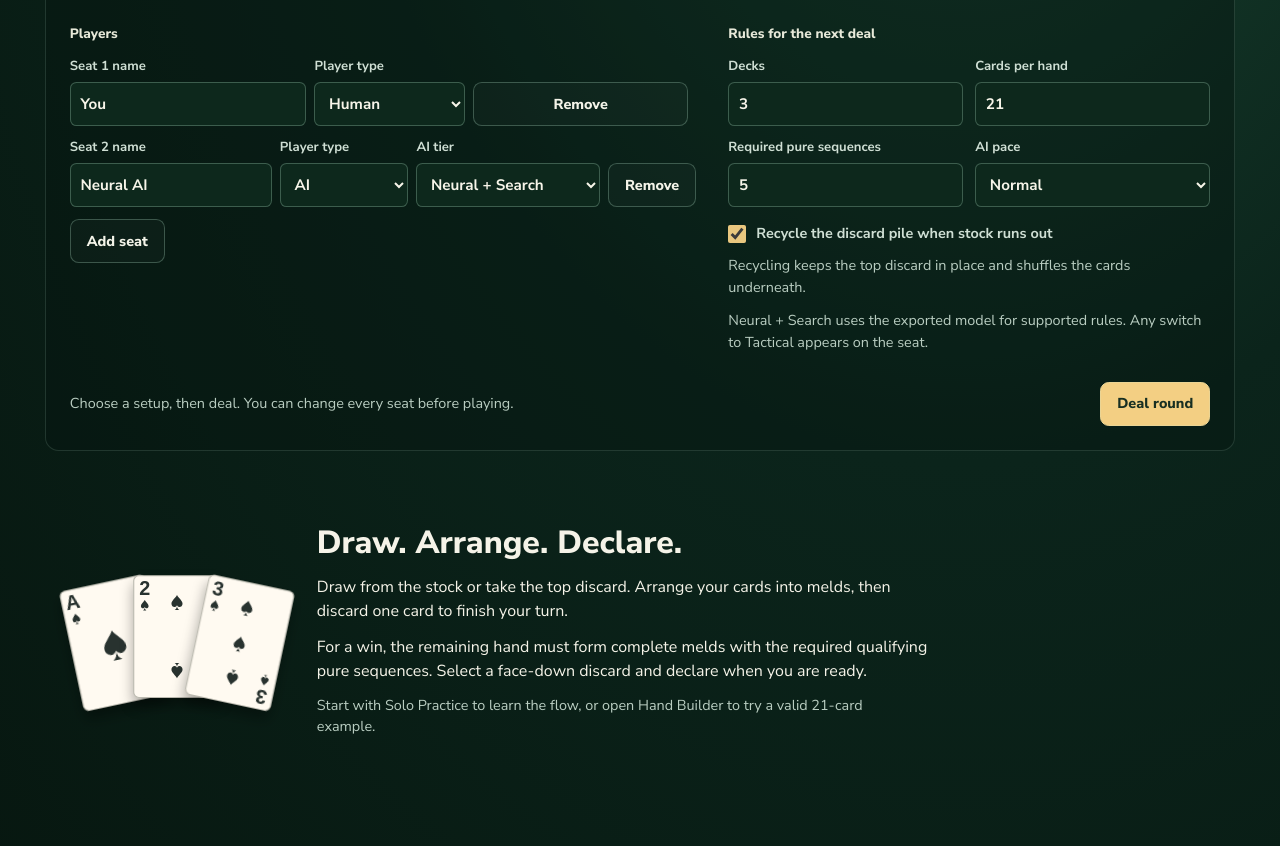
Test: StrictMode effect restart recreates the engine and unmount disposes the live engine
(page scrolled)
Step 1. Click the button "Deal round" → point(1155, 404), box top-left (1100, 382), bottom-right (1210, 426)
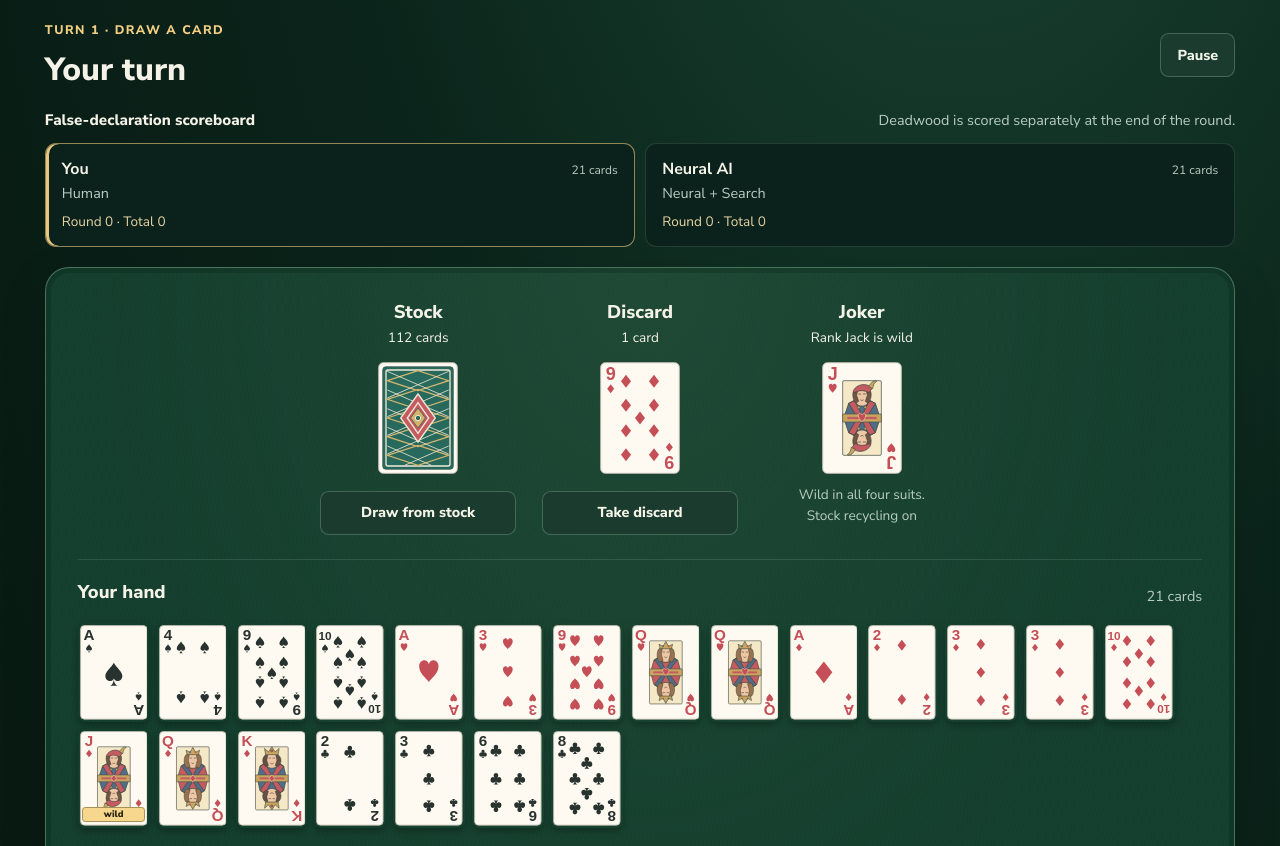
Expected: the heading "Your turn" is shown, top-left (45, 48), bottom-right (186, 91)
